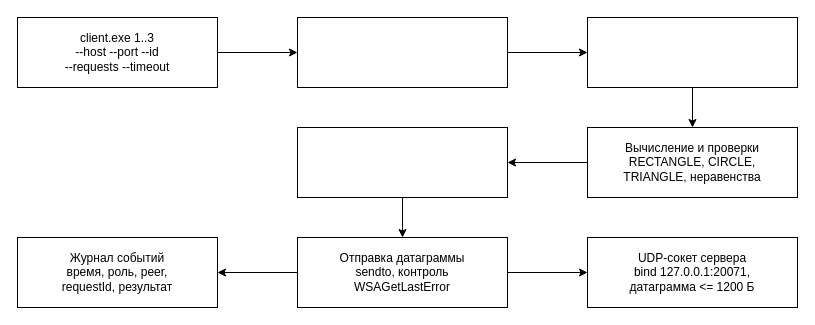
Image size: 815x325. Some labels were removed from this diagram. The shapes that lost their labels are listed below. From the top down, each one's box as (x1, y1, x2, y2) in pixels, then its label:
(296, 16, 508, 88): Приём датаграмм recvfrom, select, SO_RCVTIMEO
(586, 16, 798, 88): Разбор запроса requestId, kind, проверка полей
(296, 126, 508, 198): Формирование ответа OK с результатом или ERROR с кодом
